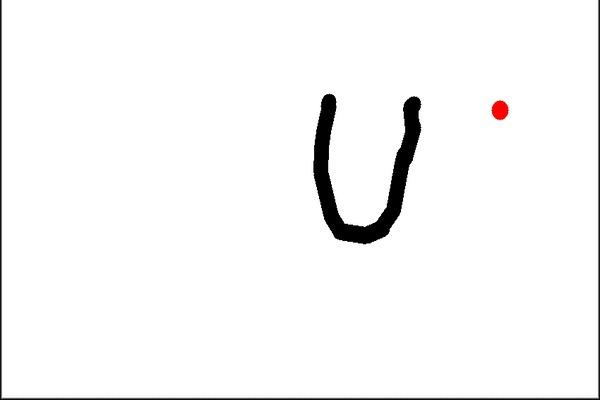U: (302, 73, 444, 248)
